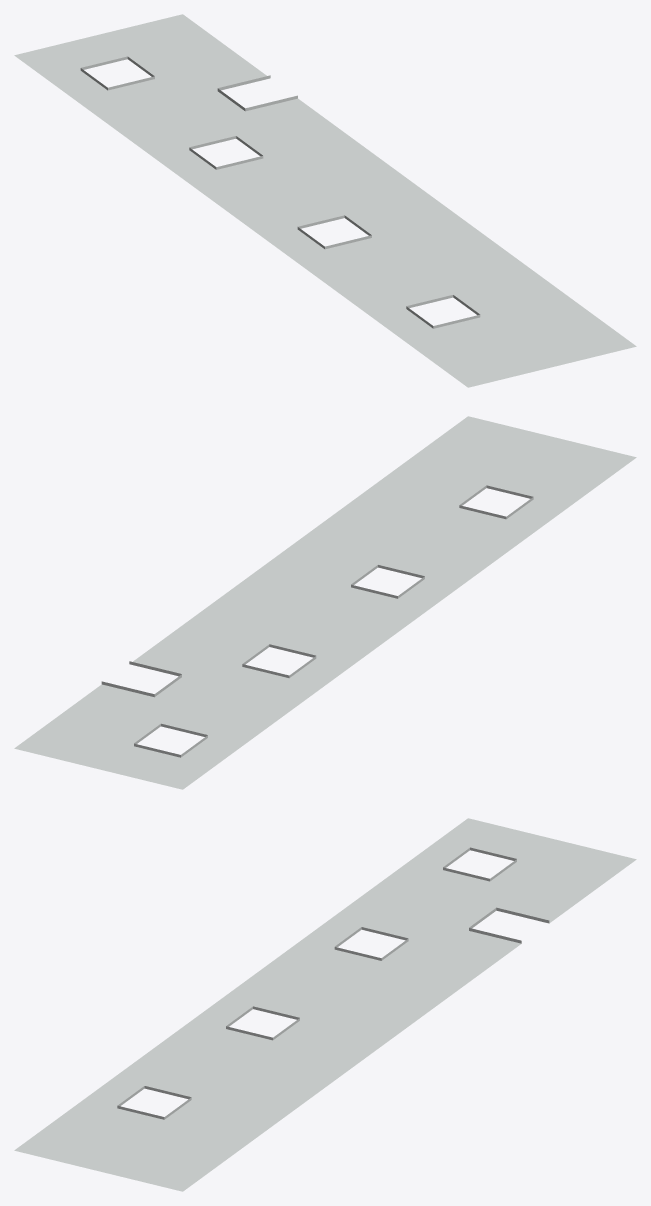
File: Ceiling-hall.fbx
3 views of the same model, one above another, from view 1: azimuth 30°, elevation 25°; view 2: azimuth 150°, elevation 25°; view 3: azimuth 330°, elevation 25° (orthographic).
Parts seen in each view (by area): view 1: HallCeiling; view 2: HallCeiling; view 3: HallCeiling.
Part boxes in pixels (left/top/right/bottom): HallCeiling: left=14, top=14, right=636, bottom=387; HallCeiling: left=14, top=416, right=636, bottom=789; HallCeiling: left=14, top=818, right=636, bottom=1191.
Size of the model in its own units: 219 by 3.81 by 1020.
Materials: 1 (1 with a texture image).
